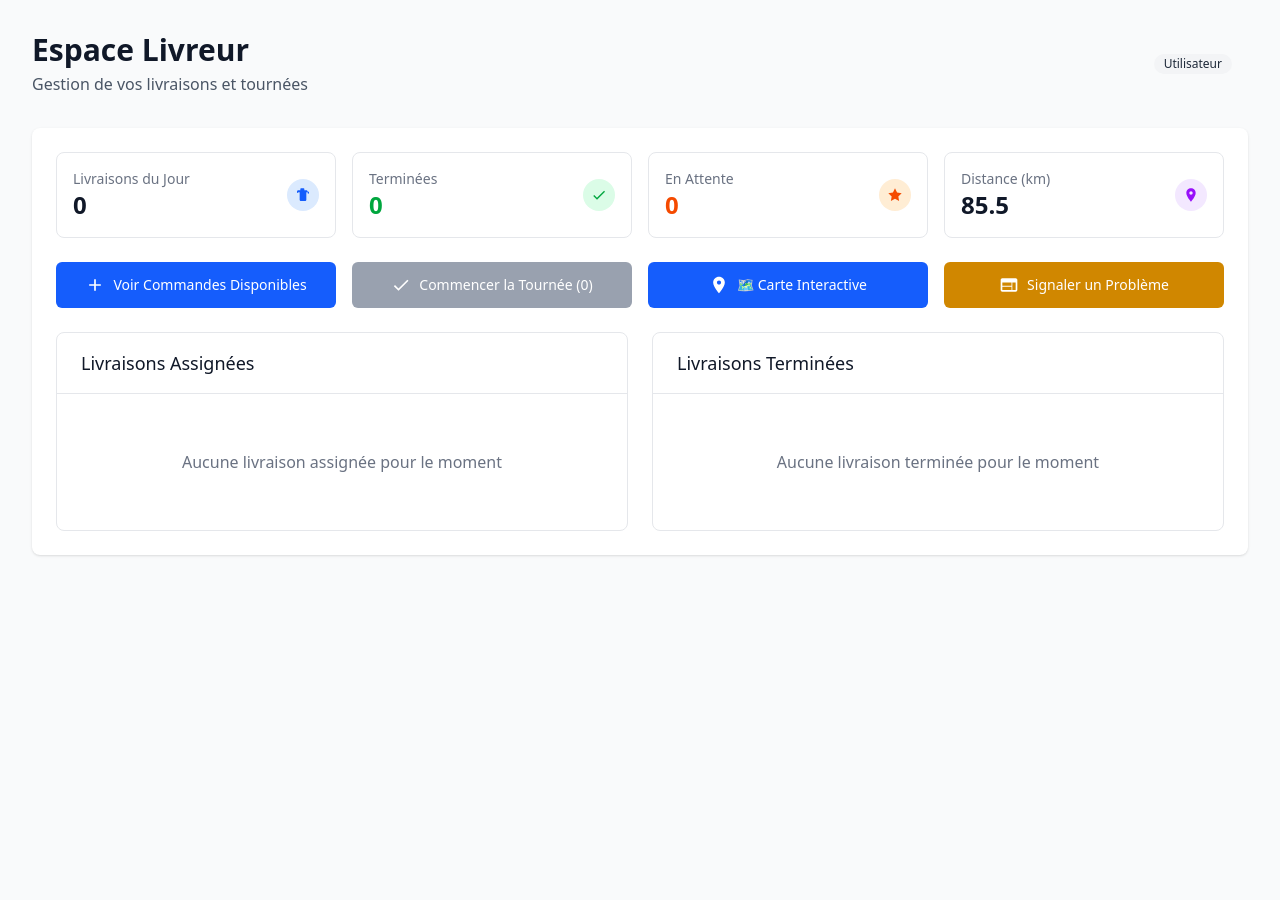
Scenario: DeliveryPersonDashboard › Loading and error states › should show empty state when no orders available
Click the button "Voir Commandes Disponibles": (196, 285) [56,262,336,308]
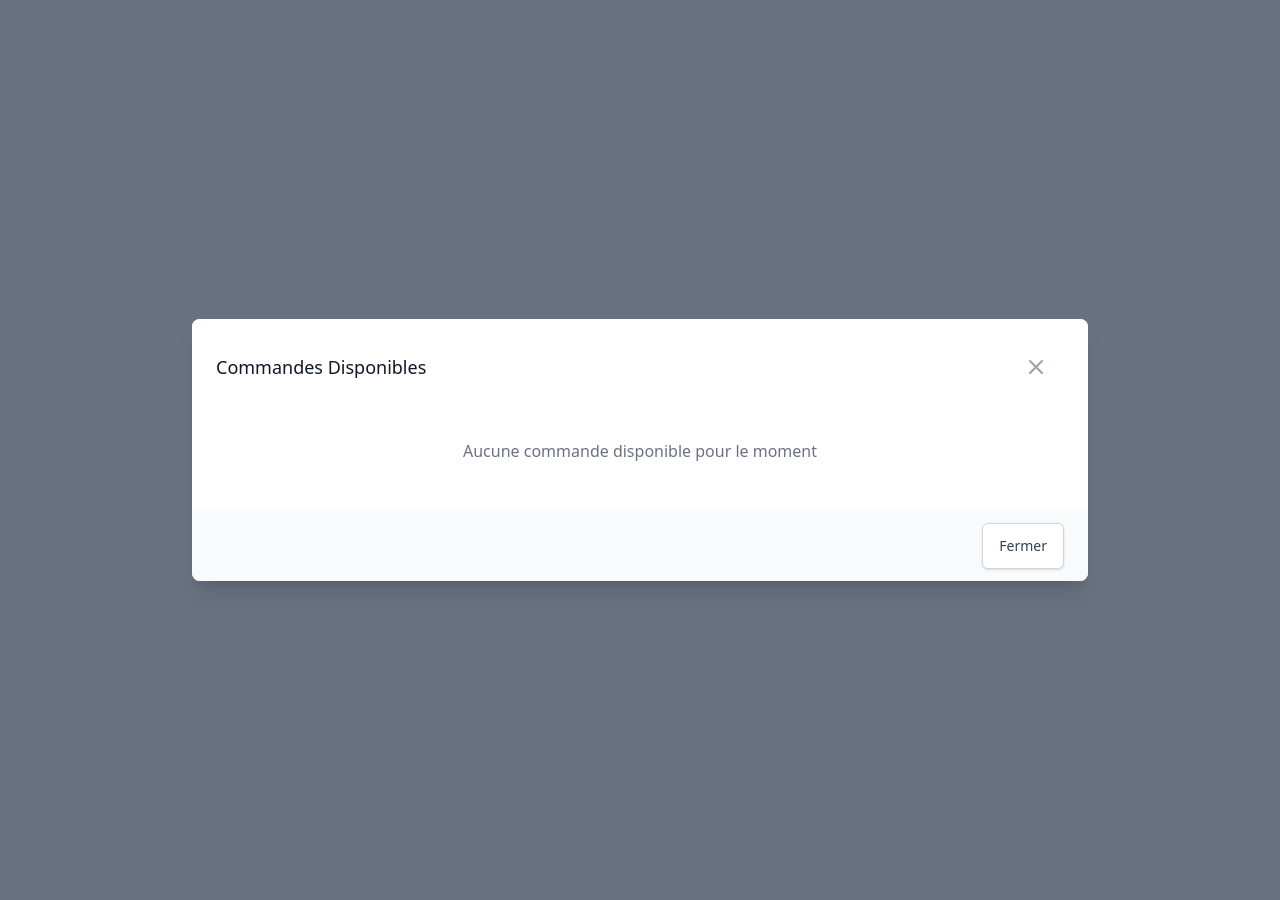
Expected: the text "Aucune commande disponible pour le moment" is shown, [463,440,817,462]
